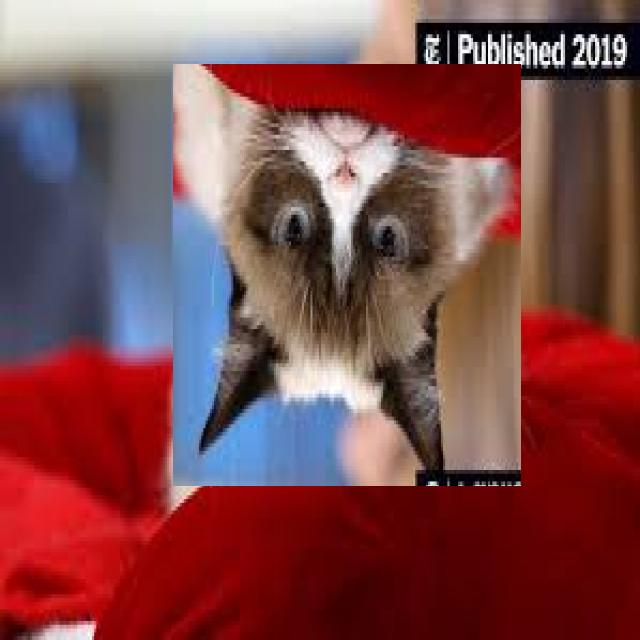cat: (173, 64, 521, 486)
